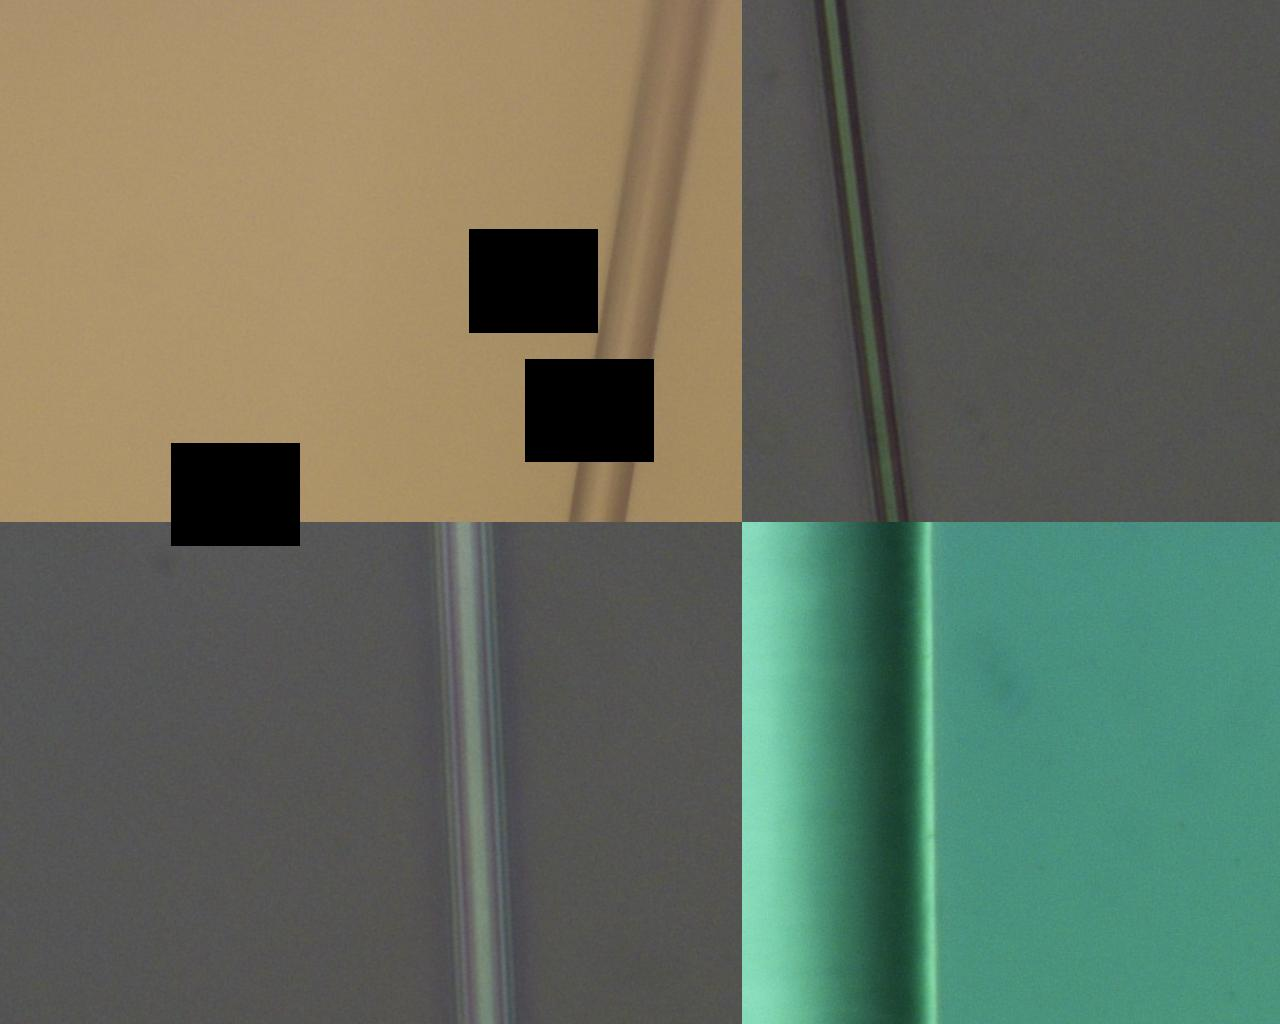fiber: (601, 95, 1280, 410), (246, 861, 601, 1024)
